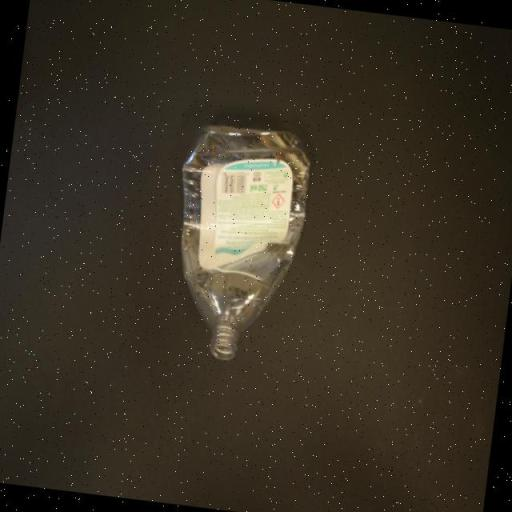plastic: (158, 115, 315, 368)
